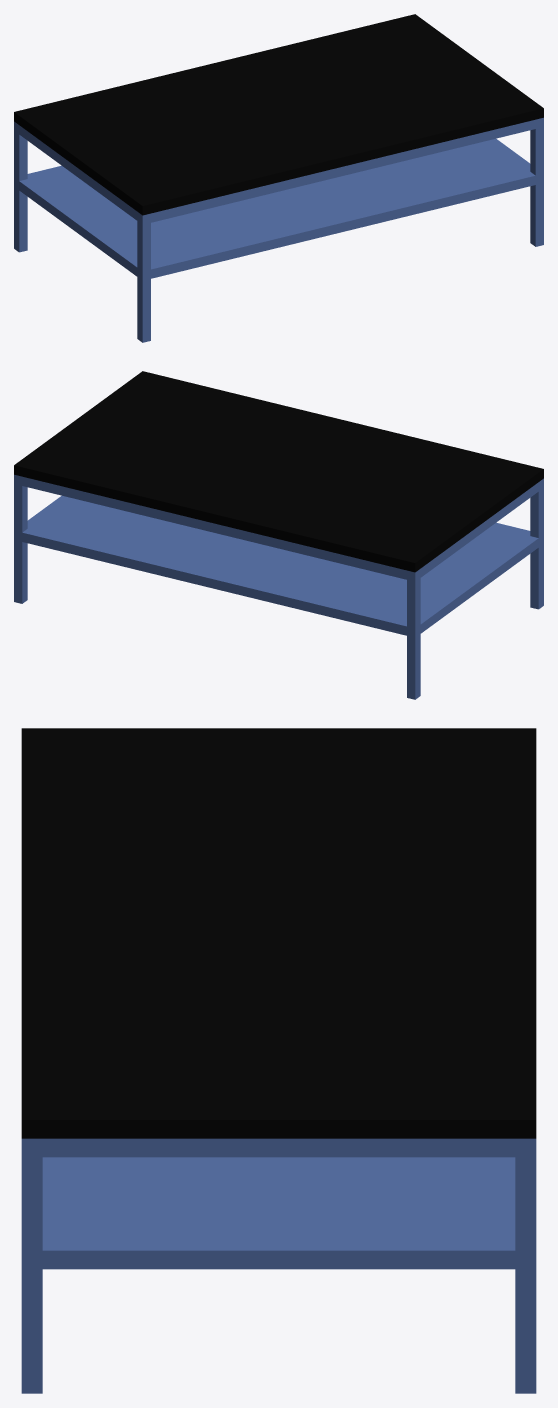
File: meko table 14.fbx
The picture shows the model from 3 angles, top to bottom: view 1: azimuth 30°, elevation 25°; view 2: azimuth 150°, elevation 25°; view 3: azimuth 270°, elevation 25°; orthographic projection. The views are drawn at different scales.
Parts seen in each view (by area): view 1: up, metal; view 2: up, metal; view 3: up, metal.
Part boxes in pixels (x1,y1,x2,y2): up: (14, 14, 543, 215); metal: (14, 117, 543, 342); up: (14, 371, 543, 572); metal: (14, 474, 543, 699); up: (21, 728, 536, 1138); metal: (21, 1138, 536, 1393).
Size of the model in its own units: 90.02 by 29.3 by 50.01.
